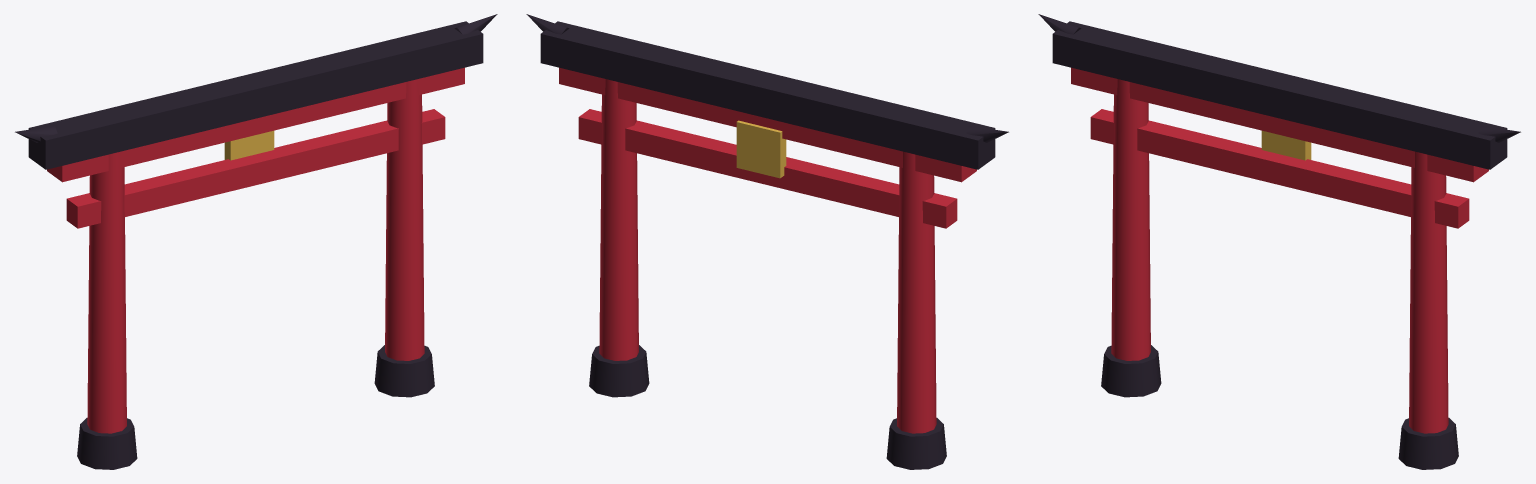
File: gate.glb
3 renders of one model, left to right at view 1: azimuth 30°, elevation 25°; view 2: azimuth 150°, elevation 25°; view 3: azimuth 330°, elevation 25°, orthographic.
Visible parts, largest first — view 1: Pillar_C8283A, Beam_2A2230, Gold_E6B84A; view 2: Pillar_C8283A, Beam_2A2230, Gold_E6B84A; view 3: Pillar_C8283A, Beam_2A2230, Gold_E6B84A.
Part boxes in pixels (left/top/right/bottom): Pillar_C8283A: left=47, top=67, right=464, bottom=433; Beam_2A2230: left=15, top=14, right=497, bottom=469; Gold_E6B84A: left=224, top=130, right=274, bottom=160; Pillar_C8283A: left=559, top=67, right=976, bottom=433; Beam_2A2230: left=526, top=14, right=1008, bottom=469; Gold_E6B84A: left=736, top=120, right=786, bottom=178; Pillar_C8283A: left=1071, top=67, right=1488, bottom=433; Beam_2A2230: left=1038, top=14, right=1520, bottom=469; Gold_E6B84A: left=1261, top=130, right=1311, bottom=160.
Bounding box in the file's own units: 19.72 × 13.58 × 2.04.
